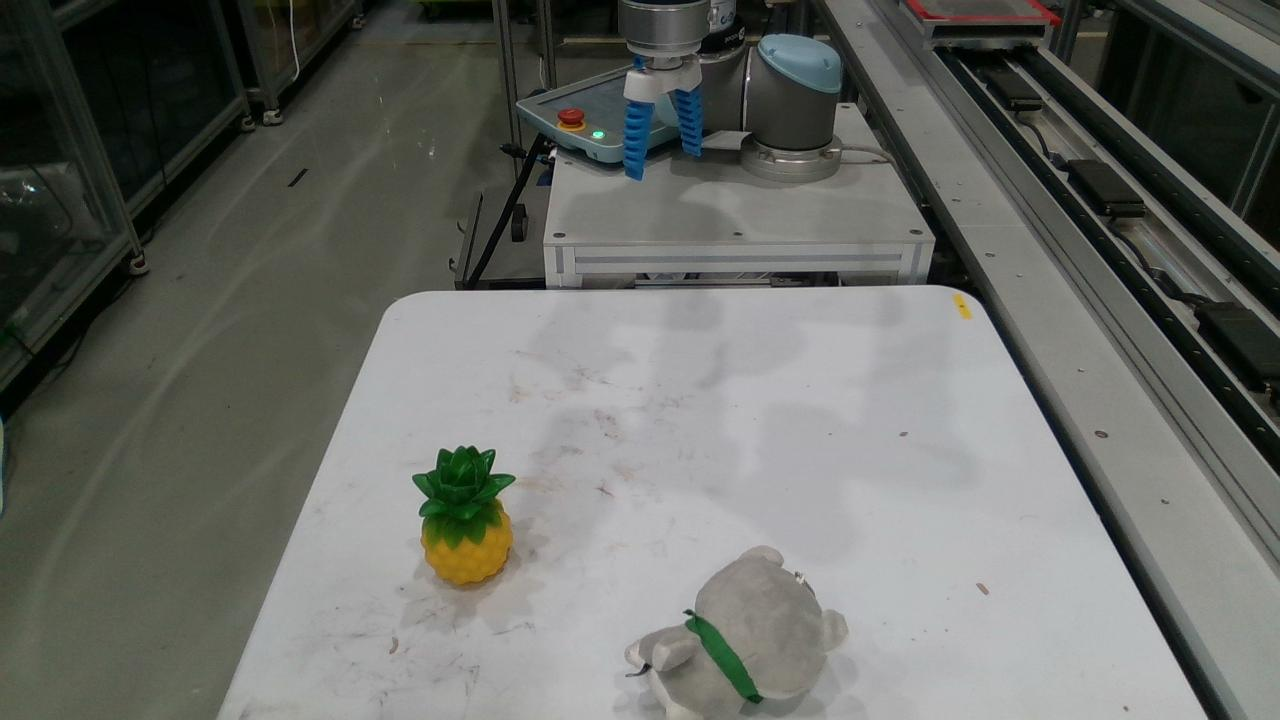UR5: (616, 2, 838, 179)
gripper_left: (624, 100, 654, 179)
gripper_right: (674, 88, 702, 153)
target: (628, 547, 846, 719), (414, 447, 510, 584)
